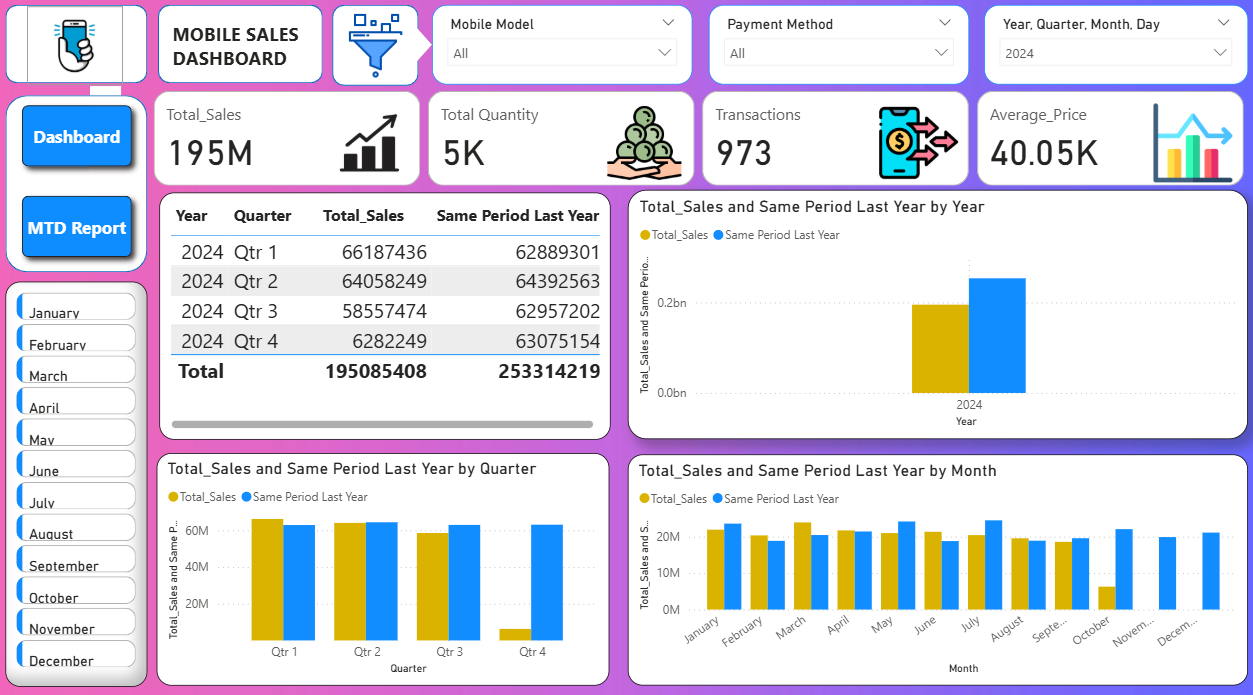

This screenshot's page, from the dashboard's own definition file:
{"tool":"powerbi","page":{"name":"Same period Last Year","canvas":[1280,720],"ordinal":2},"visuals":[{"type":"shape","box":[9.6,15,143.6,79.3],"z":0},{"type":"image","box":[32,16,96,80],"z":1000},{"type":"shape","box":[9.6,106.7,143.6,179.1],"z":2000},{"type":"cardVisual","fields":{"Data":["Sales_Data.Total_Sales","Sales_Data.Total Quantity","Sales_Data.Transactions","Sales_Data.Average_Price"]},"box":[154.5,97.1,1114.4,106.7],"z":3000},{"type":"slicer","fields":{"Values":["Sales_Data.Mobile Model"]},"box":[442.1,14.8,263.9,80.8],"z":4000},{"type":"slicer","fields":{"Values":["Sales_Data.Payment Method"]},"box":[722.5,14.8,263.9,80.8],"z":5000},{"type":"slicer","fields":{"Values":["Custom_Calendar.Date.Variation.Date Hierarchy.Year","Custom_Calendar.Date.Variation.Date Hierarchy.Quarter","Custom_Calendar.Date.Variation.Date Hierarchy.Month","Custom_Calendar.Date.Variation.Date Hierarchy.Day"]},"box":[1001.2,14.8,267.2,80.8],"z":6000},{"type":"shape","box":[340.5,15,87.5,82],"z":7000},{"type":"image","box":[345.9,16.4,76.6,80.7],"z":8000},{"type":"shape","box":[406.1,35.6,35.6,39.7],"z":9000},{"type":"shape","box":[164.1,15,166.8,79.3],"z":10000},{"type":"textbox","box":[173.6,26,147.7,58.8],"z":11000},{"type":"advancedSlicerVisual","fields":{"Values":["Custom_Calendar.Date.Variation.Date Hierarchy.Month"]},"box":[10,295,143.3,410],"z":12000},{"type":"tableEx","fields":{"Values":["Custom_Calendar.Date.Variation.Date Hierarchy.Year","Custom_Calendar.Date.Variation.Date Hierarchy.Quarter","Sales_Data.Total_Sales","Sales_Data.Same Period Last Year"]},"box":[164.9,204.5,456.9,250.7],"z":13000},{"type":"clusteredColumnChart","fields":{"Category":["Custom_Calendar.Date.Variation.Date Hierarchy.Year","Custom_Calendar.Date.Variation.Date Hierarchy.Quarter"],"Y":["Sales_Data.Total_Sales","Sales_Data.Same Period Last Year"]},"box":[640,202.9,628.4,252.4],"z":14000},{"type":"clusteredColumnChart","fields":{"Category":["Custom_Calendar.Date.Variation.Date Hierarchy.Year","Custom_Calendar.Date.Variation.Date Hierarchy.Quarter"],"Y":["Sales_Data.Total_Sales","Sales_Data.Same Period Last Year"]},"box":[163.3,468.4,458.5,235.9],"z":15000},{"type":"clusteredColumnChart","fields":{"Y":["Sales_Data.Total_Sales","Sales_Data.Same Period Last Year"],"Category":["Custom_Calendar.Date.Variation.Date Hierarchy.Year","Custom_Calendar.Date.Variation.Date Hierarchy.Quarter","Custom_Calendar.Date.Variation.Date Hierarchy.Month","Custom_Calendar.Date.Variation.Date Hierarchy.Day"]},"box":[640,470.1,628.4,234.2],"z":16000},{"type":"pageNavigator","box":[16.4,106.7,131.3,175],"z":17000}]}

Visuals, with their boxes in screenshot pixels (x1, y1, x2, y2), scaled from the page's 1280x720 canvas onto the 1253x695 screenshot:
shape: 9,14,150,91
image: 31,15,125,93
shape: 9,103,150,276
cardVisual - Sales_Data.Total_Sales x Sales_Data.Total Quantity: 151,94,1242,197
slicer - Sales_Data.Mobile Model: 433,14,691,92
slicer - Sales_Data.Payment Method: 707,14,966,92
slicer - Custom_Calendar.Date.Variation.Date Hierarchy.Year x Custom_Calendar.Date.Variation.Date Hierarchy.Quarter: 980,14,1242,92
shape: 333,14,419,94
image: 339,16,414,94
shape: 398,34,432,73
shape: 161,14,324,91
textbox: 170,25,315,82
advancedSlicerVisual - Custom_Calendar.Date.Variation.Date Hierarchy.Month: 10,285,150,681
tableEx - Custom_Calendar.Date.Variation.Date Hierarchy.Year x Custom_Calendar.Date.Variation.Date Hierarchy.Quarter: 161,197,609,439
clusteredColumnChart - Custom_Calendar.Date.Variation.Date Hierarchy.Year x Custom_Calendar.Date.Variation.Date Hierarchy.Quarter: 626,196,1242,439
clusteredColumnChart - Custom_Calendar.Date.Variation.Date Hierarchy.Year x Custom_Calendar.Date.Variation.Date Hierarchy.Quarter: 160,452,609,680
clusteredColumnChart - Sales_Data.Total_Sales x Sales_Data.Same Period Last Year: 626,454,1242,680
pageNavigator: 16,103,145,272
